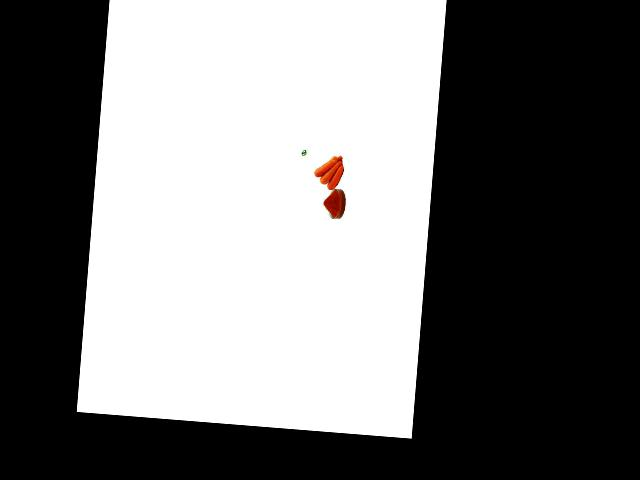carrot: (327, 162, 347, 191)
